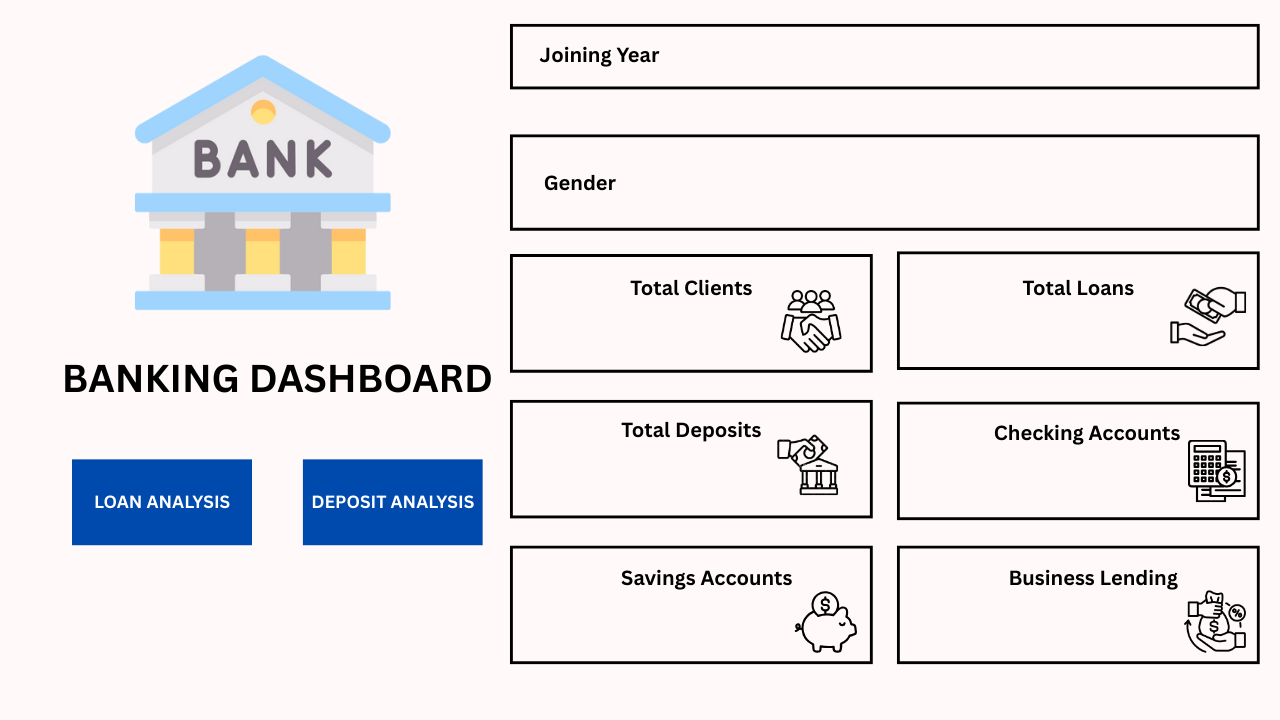

What the dashboard file says about the page in this screenshot:
{"tool":"powerbi","page":{"name":"HOME","canvas":[1280,720],"ordinal":0},"visuals":[{"type":"card","fields":{"Values":["CountNonNull(Banking_Clients.Name)"]},"box":[618.9,303.3,152.3,56.3],"z":0},{"type":"card","fields":{"Values":["Banking_Clients.TOTAL LOAN"]},"box":[1004.5,304.6,152.3,56.3],"z":1000},{"type":"card","fields":{"Values":["Banking_Clients.TOTAL DEPOSISTS"]},"box":[618.9,448.7,152.3,56.3],"z":2000},{"type":"card","fields":{"Values":["Sum(Banking_Clients.Checking Accounts)"]},"box":[1005.8,448.7,152.3,56.3],"z":3000},{"type":"card","fields":{"Values":["Sum(Banking_Clients.Saving Accounts)"]},"box":[618.9,594.2,152.3,56.3],"z":4000},{"type":"card","fields":{"Values":["Sum(Banking_Clients.Business Lending)"]},"box":[1005.8,594.2,152.3,56.3],"z":5000},{"type":"slicer","fields":{"Values":["Banking_Clients.GenderId"]},"box":[639.5,149.6,596.9,71.4],"z":6000},{"type":"slicer","fields":{"Values":["Banking_Clients.YEAR OF JOINNG"]},"box":[661.1,33.8,597.2,48.3],"z":7000},{"type":"actionButton","box":[77.2,466.9,168.9,73.6],"z":8000},{"type":"actionButton","box":[307.6,466.9,168.9,73.6],"z":9000},{"type":"actionButton","box":[191.8,585.1,168.9,73.6],"z":10000}]}

Visuals, with their boxes in screenshot pixels (x1, y1, x2, y2), scaled from the page's 1280x720 canvas onto the 1280x720 screenshot:
card - CountNonNull(Banking_Clients.Name): 619 303 771 360
card - Banking_Clients.TOTAL LOAN: 1004 305 1157 361
card - Banking_Clients.TOTAL DEPOSISTS: 619 449 771 505
card - Sum(Banking_Clients.Checking Accounts): 1006 449 1158 505
card - Sum(Banking_Clients.Saving Accounts): 619 594 771 650
card - Sum(Banking_Clients.Business Lending): 1006 594 1158 650
slicer - Banking_Clients.GenderId: 640 150 1236 221
slicer - Banking_Clients.YEAR OF JOINNG: 661 34 1258 82
actionButton: 77 467 246 540
actionButton: 308 467 476 540
actionButton: 192 585 361 659
